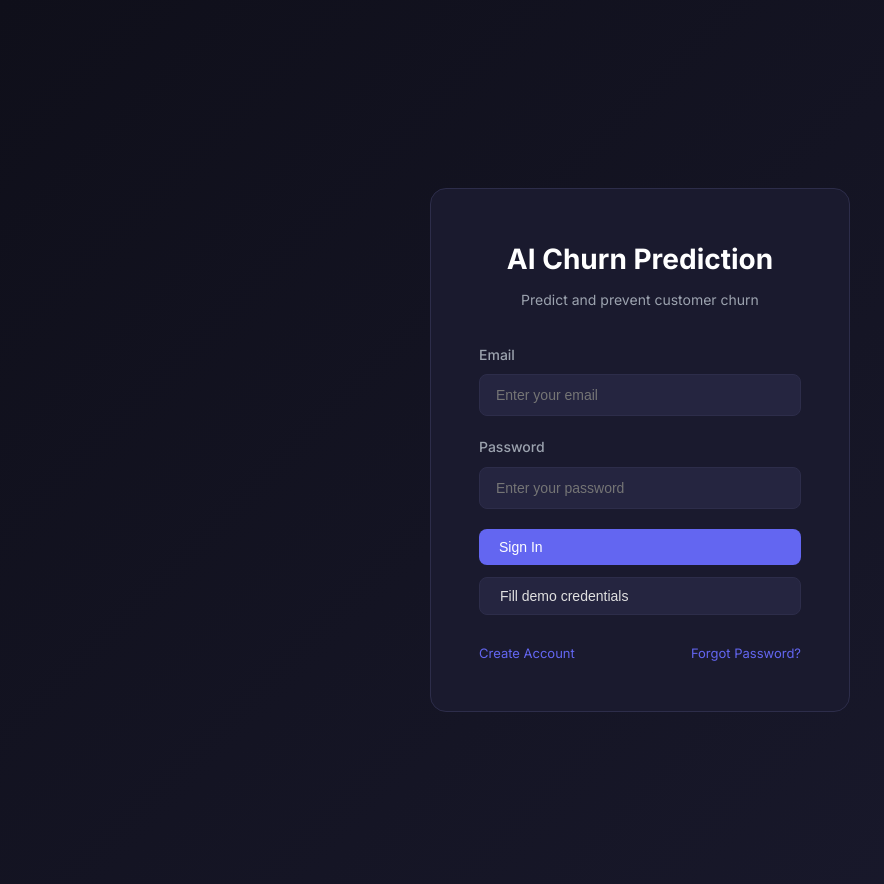
Test case: demo fill populates configured fixture credentials without posting or submitting
Click the button "Fill demo credentials" at (564, 596), box [479,577,801,615]
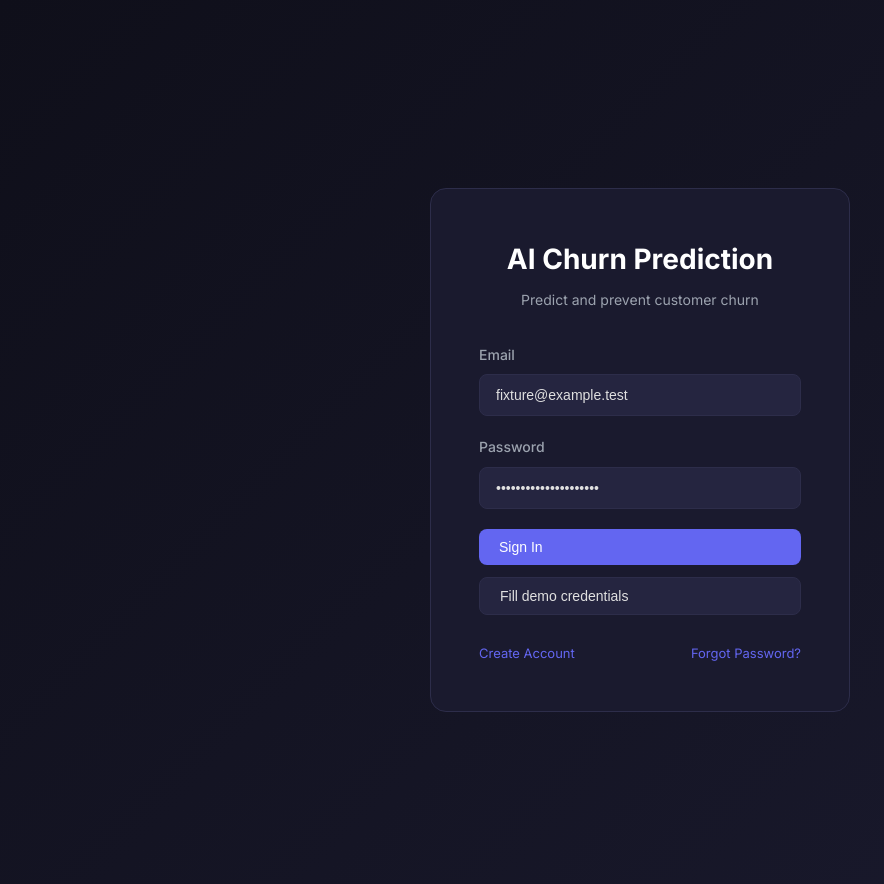
Expected: the field holds "fixture@example.test", [479,374,801,416]
Expected: the password field holds "fixture-only-password", [479,467,801,509]
